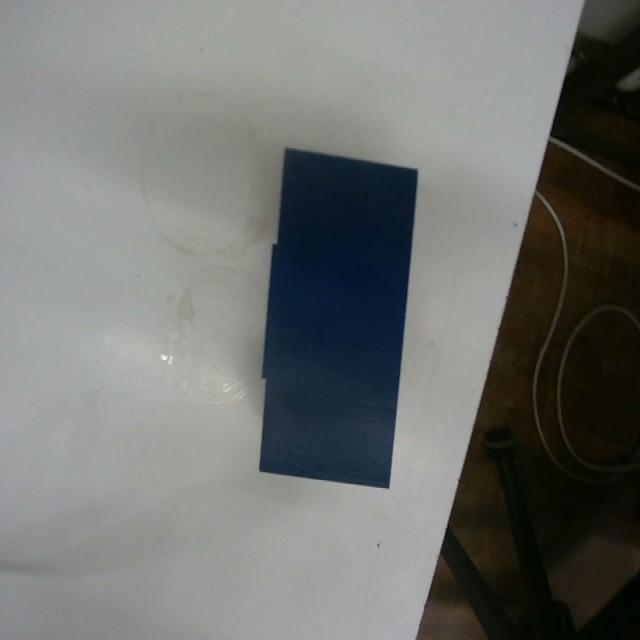Blue Cuboid: (256, 142, 419, 490)
